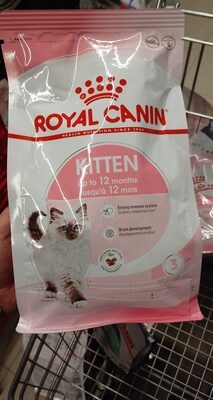Croquettes chaton: (11, 20, 202, 380)
